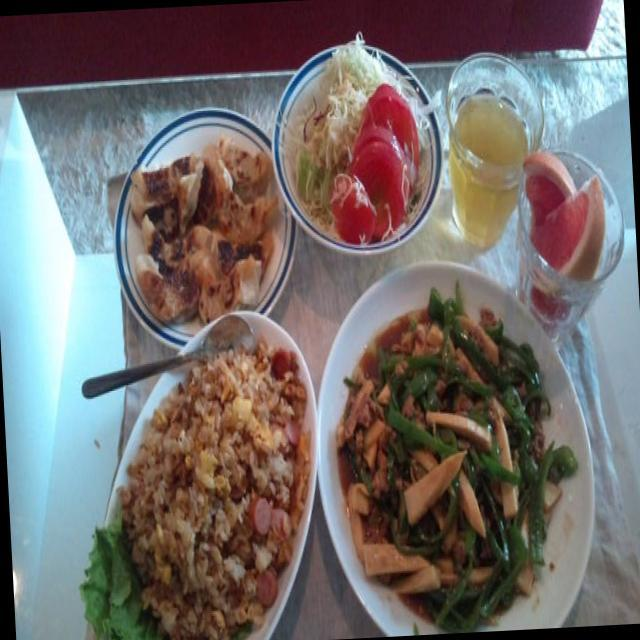Green Salad: (282, 31, 436, 232)
